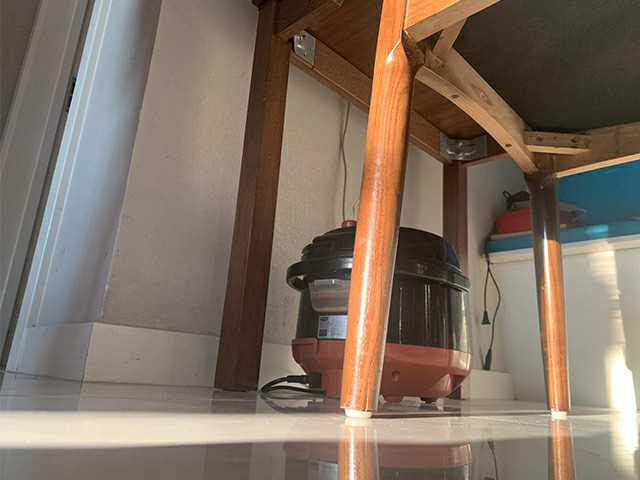stool: (338, 1, 640, 420)
wire: (261, 371, 327, 396)
